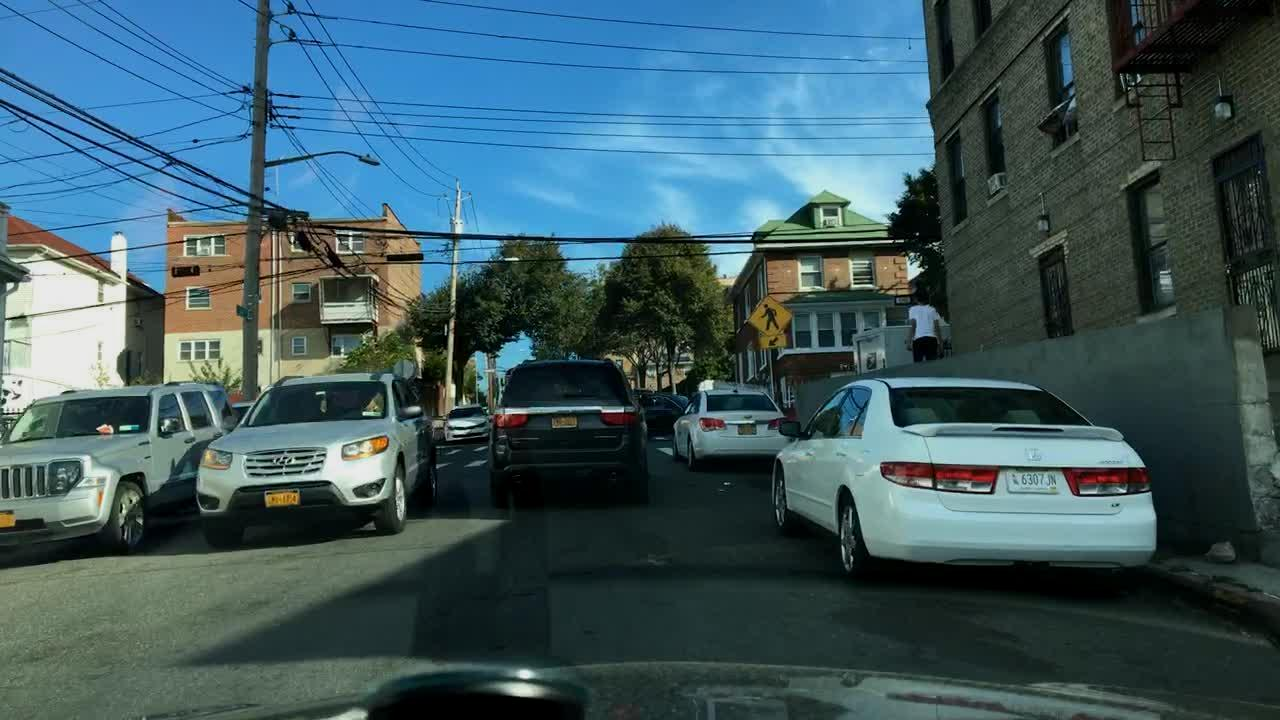Hyundai: (273, 452, 294, 470)
